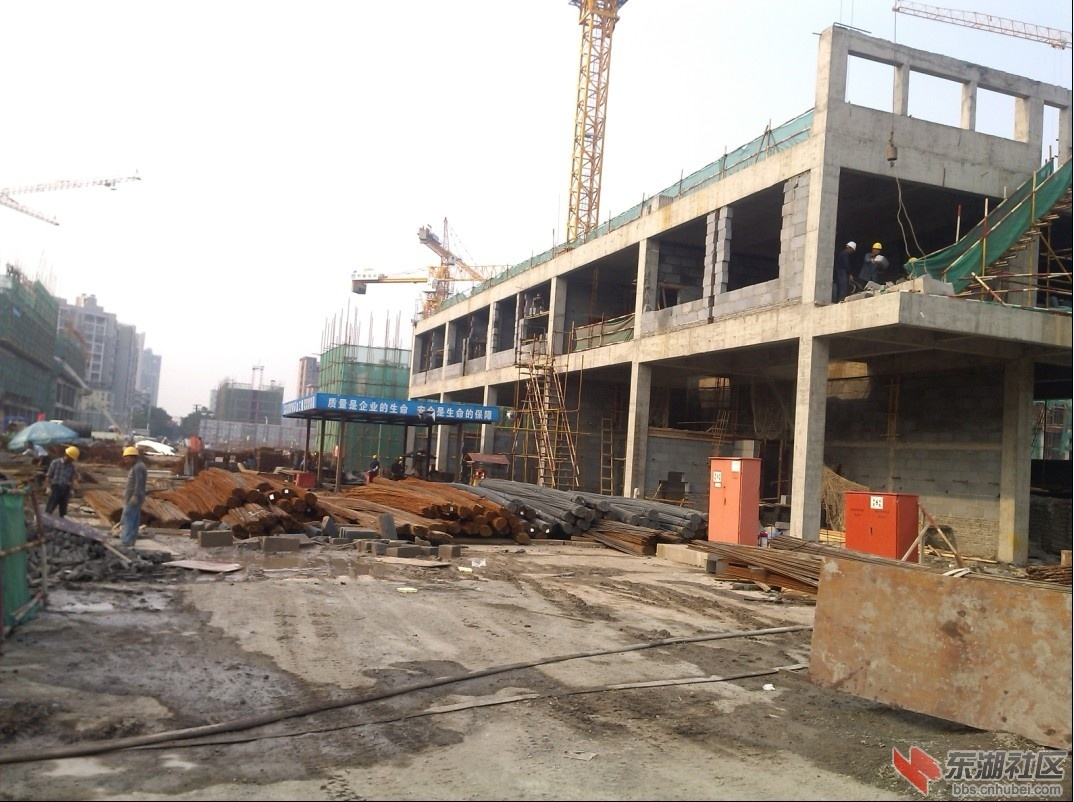white: (844, 240, 856, 254)
yellow: (121, 446, 140, 465), (63, 444, 80, 463), (870, 241, 882, 256)
